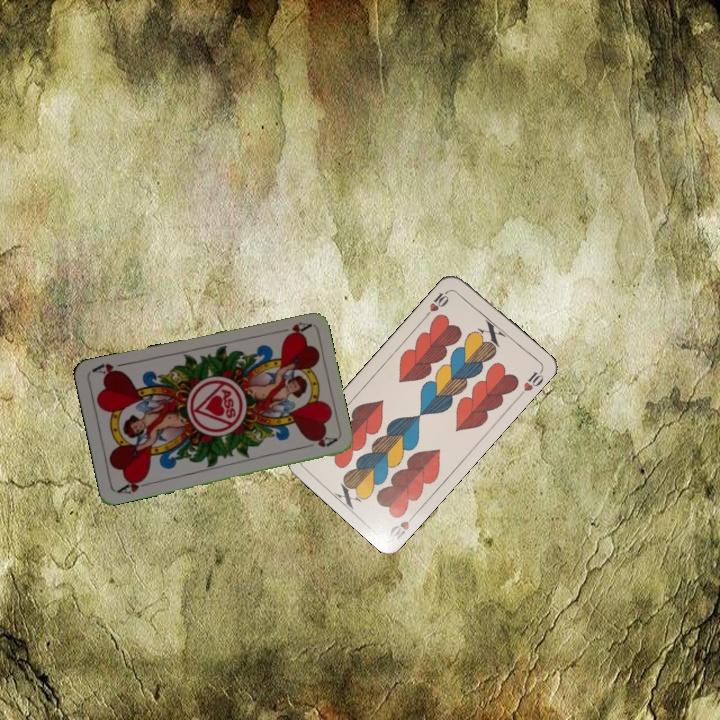H10: (386, 508, 420, 542), (422, 285, 454, 319)
HA: (114, 473, 154, 497), (272, 318, 313, 340)
